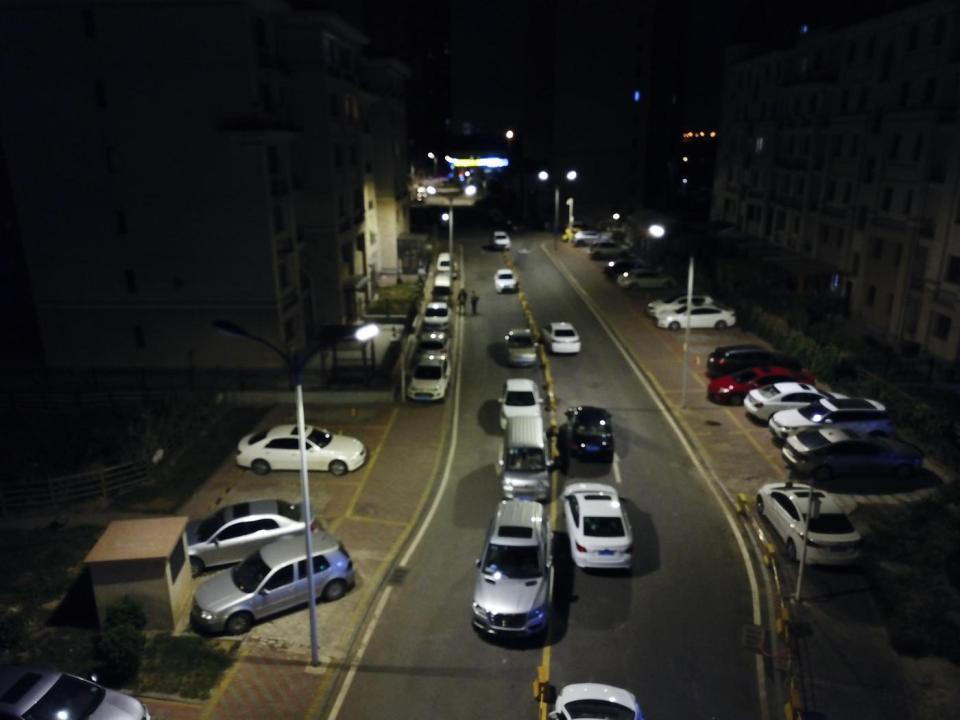car: (188, 531, 355, 636), (469, 498, 555, 642), (175, 498, 321, 580), (754, 480, 862, 568), (780, 424, 926, 485), (3, 660, 151, 720), (561, 478, 634, 570), (234, 425, 367, 475), (770, 398, 896, 446), (743, 381, 855, 427), (705, 366, 820, 405), (704, 346, 804, 390), (562, 401, 616, 460), (496, 376, 545, 426), (405, 354, 453, 402), (653, 304, 736, 330), (647, 292, 716, 318), (502, 326, 541, 369), (536, 320, 582, 355), (615, 268, 679, 292), (603, 258, 658, 280), (419, 302, 451, 335), (418, 330, 451, 361), (588, 240, 631, 260), (433, 250, 459, 276), (574, 230, 615, 246), (493, 268, 518, 294), (562, 226, 599, 242), (491, 229, 513, 252), (502, 216, 527, 233)
van: (495, 414, 553, 502), (432, 271, 454, 311)
